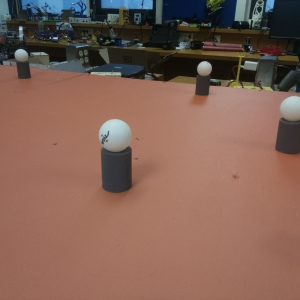obstacle: (97, 119, 134, 187), (278, 95, 300, 149), (196, 60, 212, 96), (14, 50, 31, 76)
